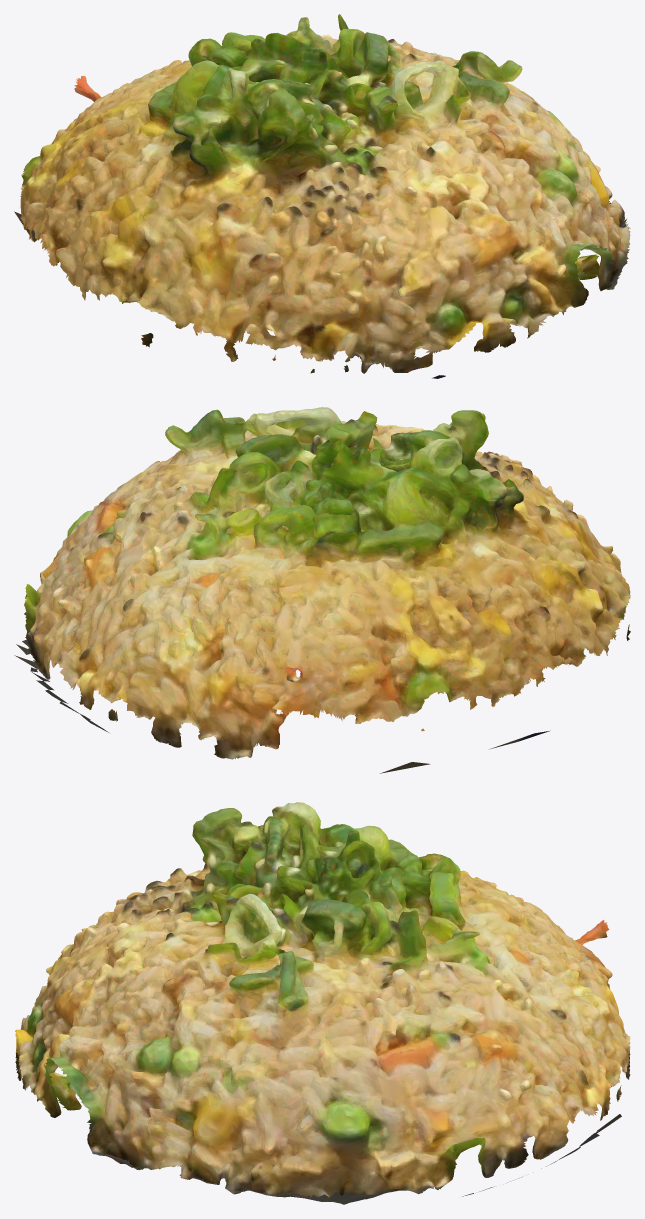
Rendered from rice.glb.
3 views of the same model, one above another, from view 1: azimuth 30°, elevation 25°; view 2: azimuth 150°, elevation 25°; view 3: azimuth 270°, elevation 25° (orthographic).
Parts seen in each view (by area): view 1: model_tex_u1_v1_0; view 2: model_tex_u1_v1_0; view 3: model_tex_u1_v1_0.
Part boxes in pixels (x1,y1,x2,y2): model_tex_u1_v1_0: [14, 14, 630, 378]; model_tex_u1_v1_0: [14, 407, 630, 773]; model_tex_u1_v1_0: [15, 802, 630, 1204].
Bounding box in the file's own units: 0.16 × 0.0673 × 0.16.
Materials: 1 (1 with a texture image).
